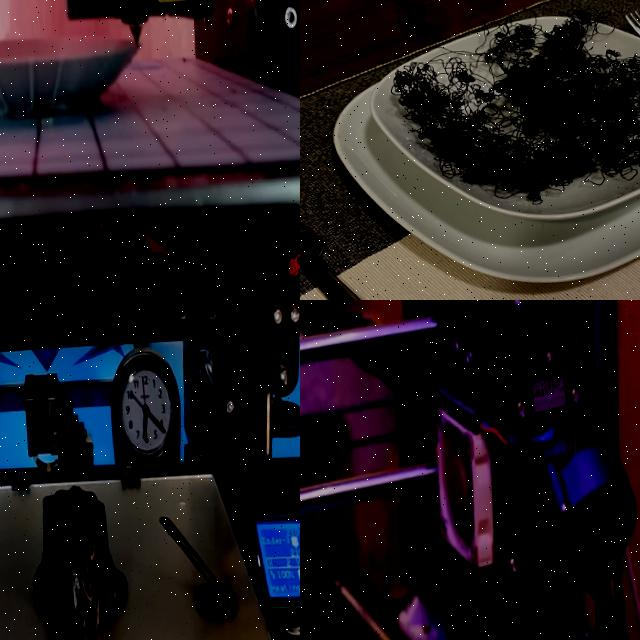spaghetti: (372, 4, 640, 224)
